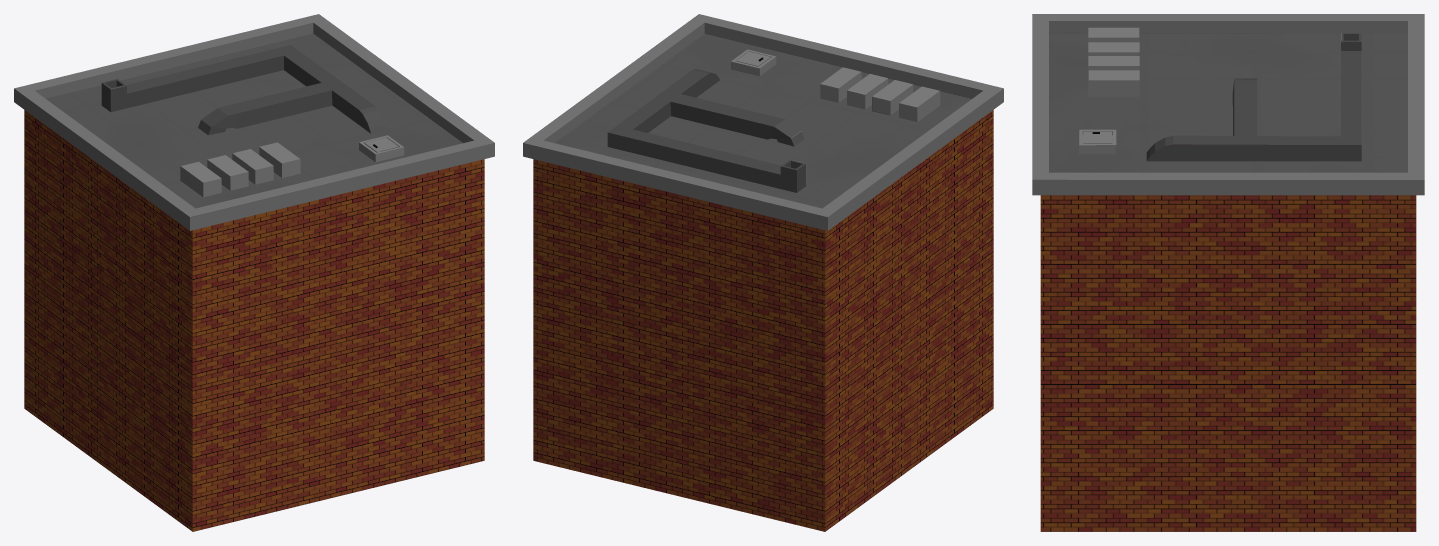
Rendered from building_2.fbx.
The picture shows the model from 3 angles, left to right: view 1: azimuth 30°, elevation 25°; view 2: azimuth 150°, elevation 25°; view 3: azimuth 270°, elevation 25°; orthographic projection. The views are drawn at different scales.
Visible parts, largest first — view 1: Building 2; view 2: Building 2; view 3: Building 2.
Part boxes in pixels (box(x1,y1,x2,y2)): Building 2: box(14, 14, 494, 531); Building 2: box(523, 14, 1003, 531); Building 2: box(1032, 14, 1424, 531).
Size of the model in its own units: 571 by 592 by 571.
Materials: 1 (1 with a texture image).
